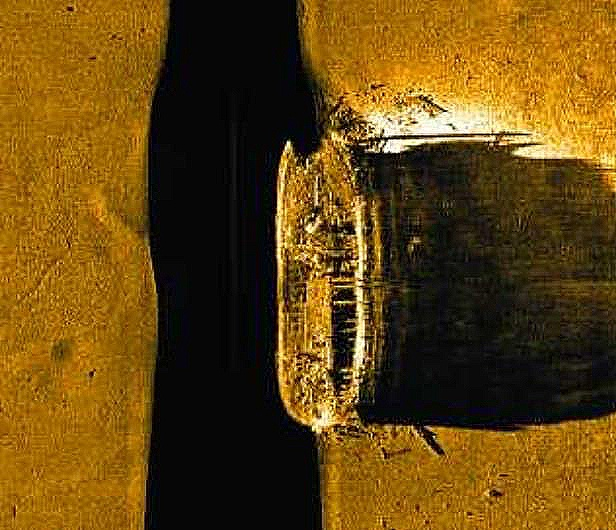ship: (273, 107, 406, 441)
